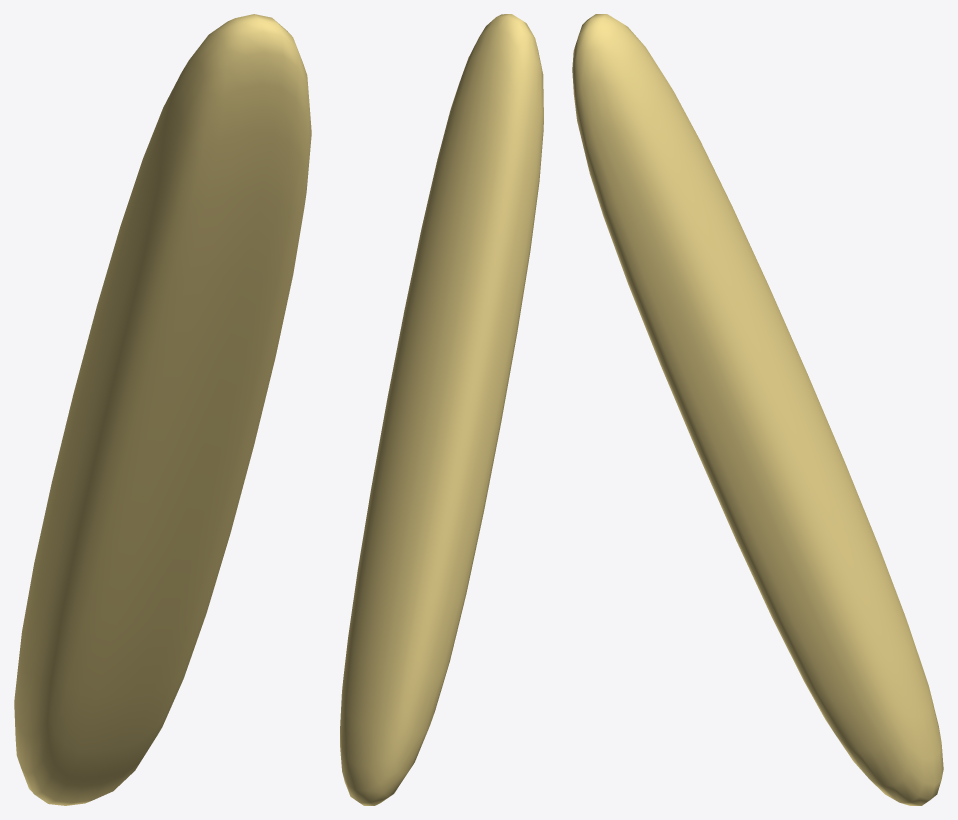
The picture shows the model from 3 angles, left to right: view 1: azimuth 30°, elevation 25°; view 2: azimuth 150°, elevation 25°; view 3: azimuth 270°, elevation 25°; orthographic projection. The views are drawn at different scales.
Parts seen in each view (by area): view 1: ZA_6839da12c286ab7b; view 2: ZA_6839da12c286ab7b; view 3: ZA_6839da12c286ab7b.
Part boxes in pixels (box(x1,y1,x2,y2)): ZA_6839da12c286ab7b: box(14, 14, 311, 805); ZA_6839da12c286ab7b: box(340, 14, 543, 805); ZA_6839da12c286ab7b: box(572, 14, 943, 805).
Size of the model in its own units: 0.00117 by 0.0072 by 0.0031.
